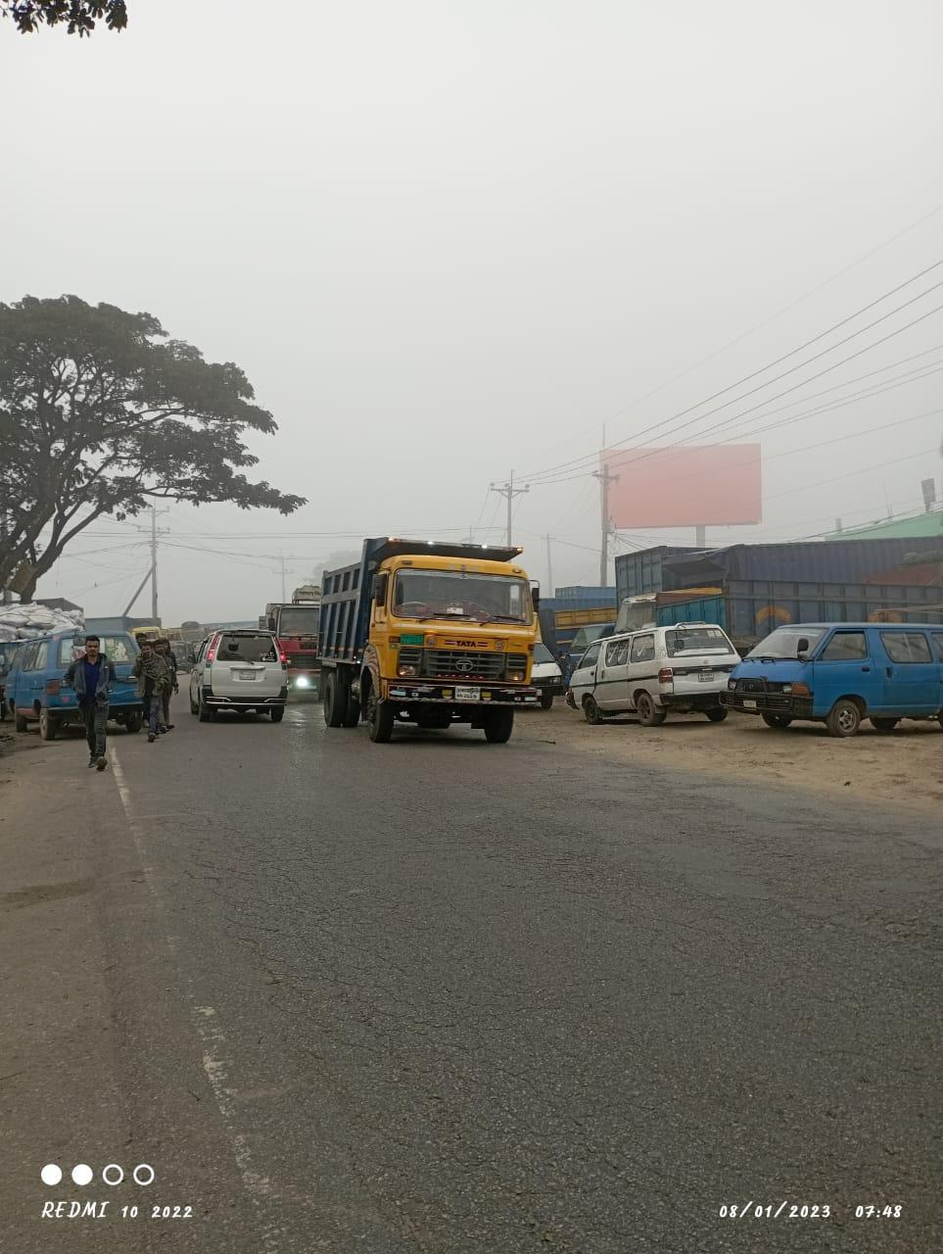Car: (732, 612, 937, 738), (561, 614, 730, 740), (9, 619, 149, 744), (186, 615, 300, 740)
Truck: (306, 529, 544, 751)
